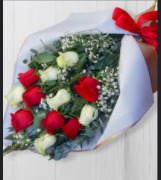RedRose: (41, 110, 66, 135), (9, 108, 34, 132), (22, 86, 45, 108), (17, 68, 40, 88), (64, 117, 82, 138)
